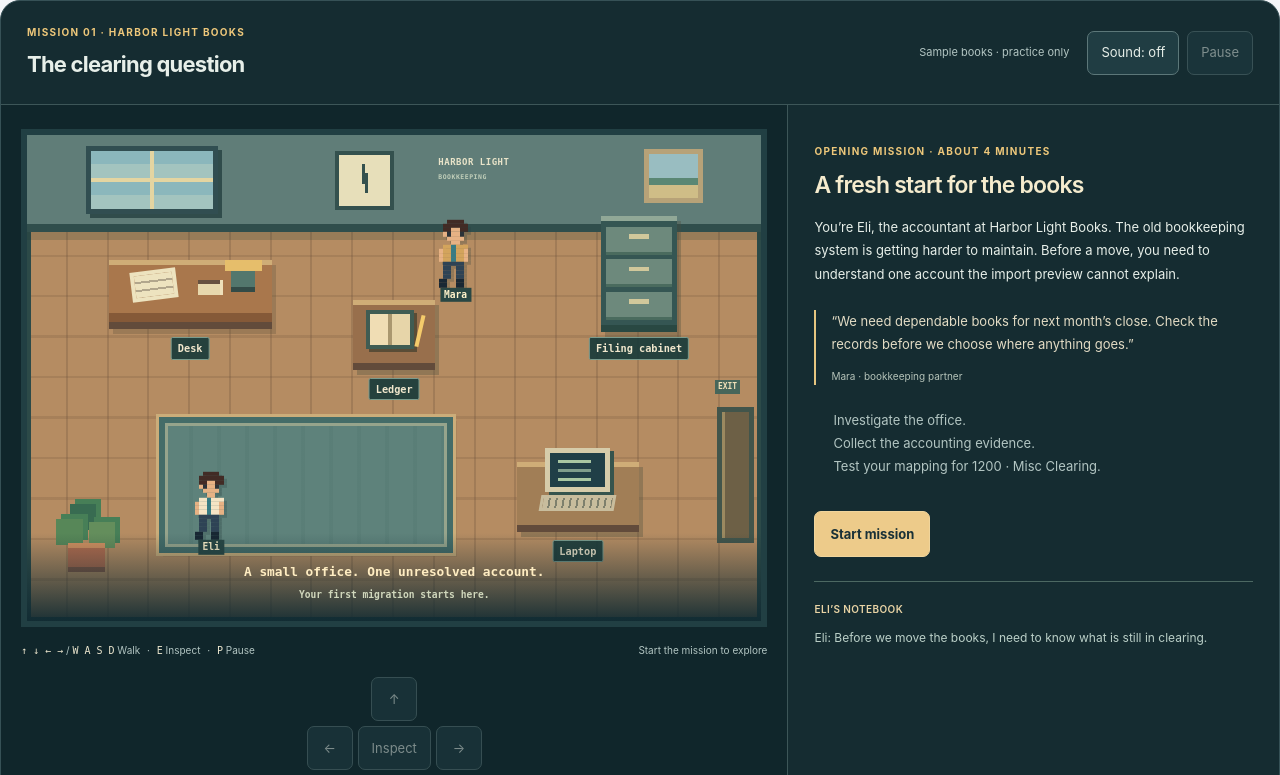
opening mission › pauses when the browser tab is hidden
The image size is (1280, 775).
Click the button "Start mission".
click(872, 534)  # box top-left (814, 511), bottom-right (930, 557)
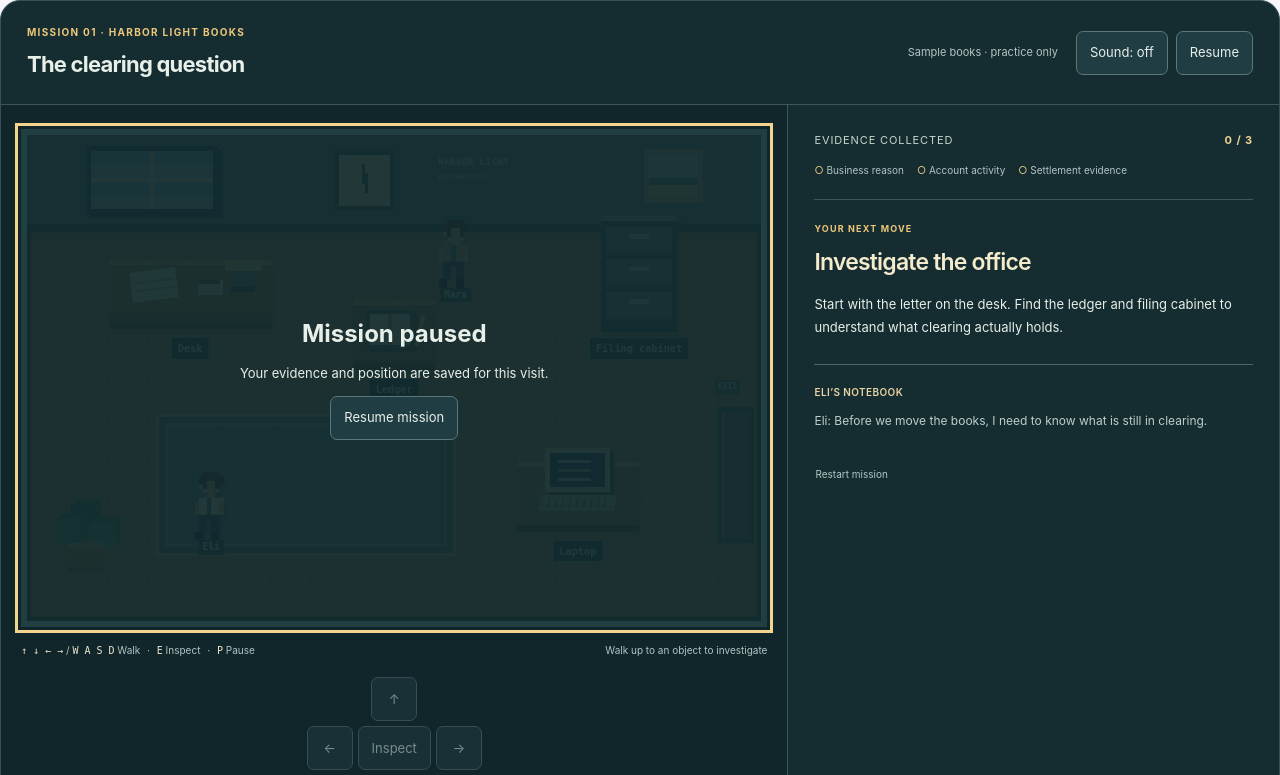
Expected: the button named "Walk up" is disabled, top-left (371, 677), bottom-right (417, 721)
Expected: the text "Mission paused" is shown, top-left (302, 316), bottom-right (487, 352)
